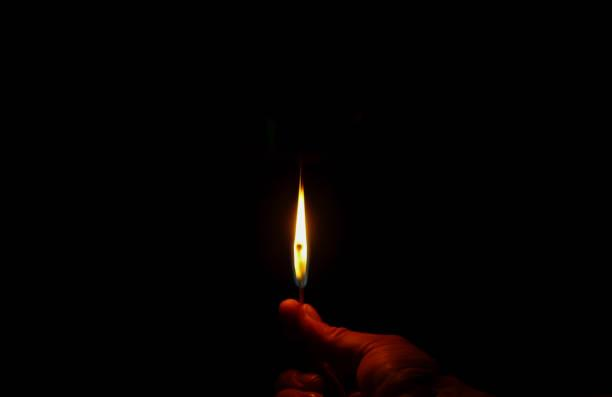Fire: (289, 170, 315, 288)
